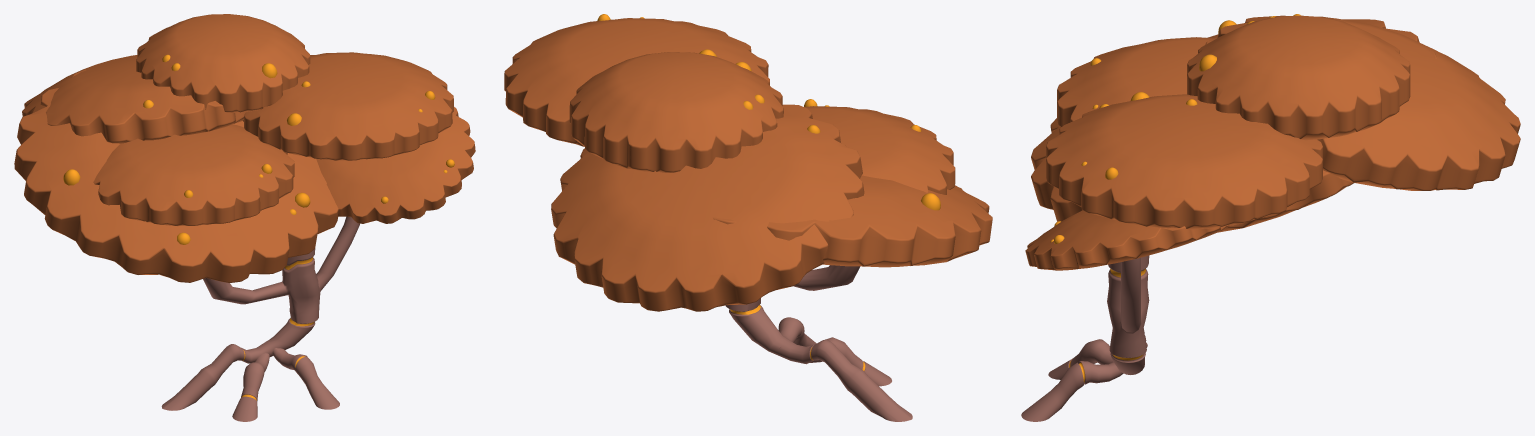
File: tree_color2.fbx
3 renders of one model, left to right at view 1: azimuth 30°, elevation 25°; view 2: azimuth 150°, elevation 25°; view 3: azimuth 270°, elevation 25°, orthographic. The views are drawn at different scales.
Parts seen in each view (by area): view 1: pSphere9; view 2: pSphere9; view 3: pSphere9.
Boxes of the visible parts, left/top/right/bottom form: pSphere9: left=14, top=14, right=475, bottom=421; pSphere9: left=504, top=14, right=992, bottom=421; pSphere9: left=1021, top=14, right=1520, bottom=421.
Bounding box in the file's own units: 1258 × 951 × 1116.
